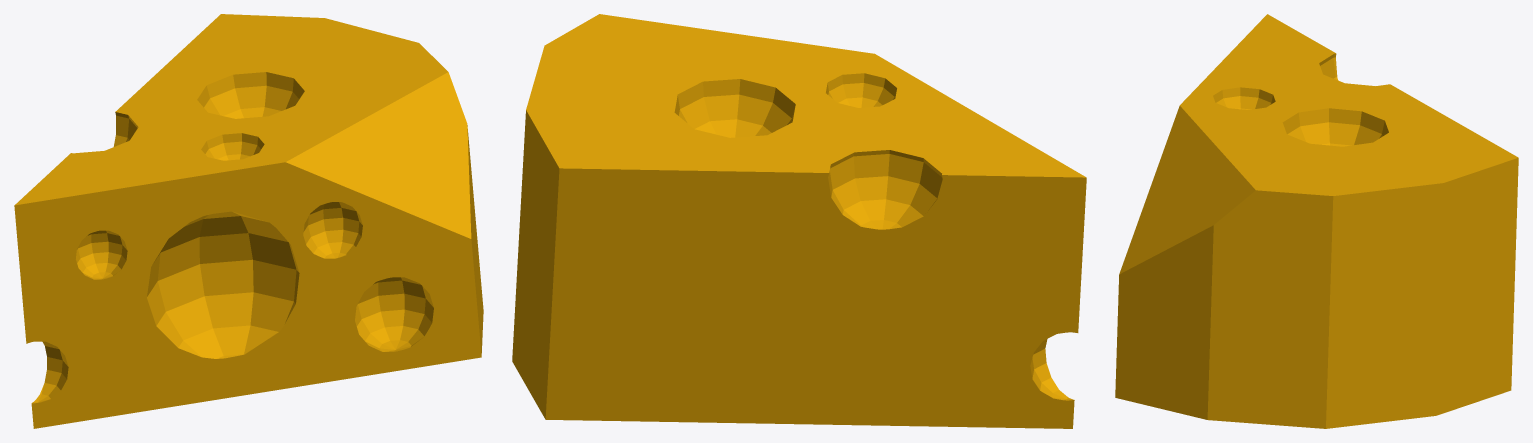
The model's file is cheese.fbx.
3 renders of one model, left to right at view 1: azimuth 30°, elevation 25°; view 2: azimuth 150°, elevation 25°; view 3: azimuth 270°, elevation 25°, orthographic. The views are drawn at different scales.
Visible parts, largest first — view 1: Cylinder; view 2: Cylinder; view 3: Cylinder.
Boxes of the visible parts, <box> form: Cylinder: <box>14,14,483,428</box>; Cylinder: <box>512,14,1086,428</box>; Cylinder: <box>1115,14,1518,428</box>.
Size of the model in its own units: 227 by 124 by 175.
